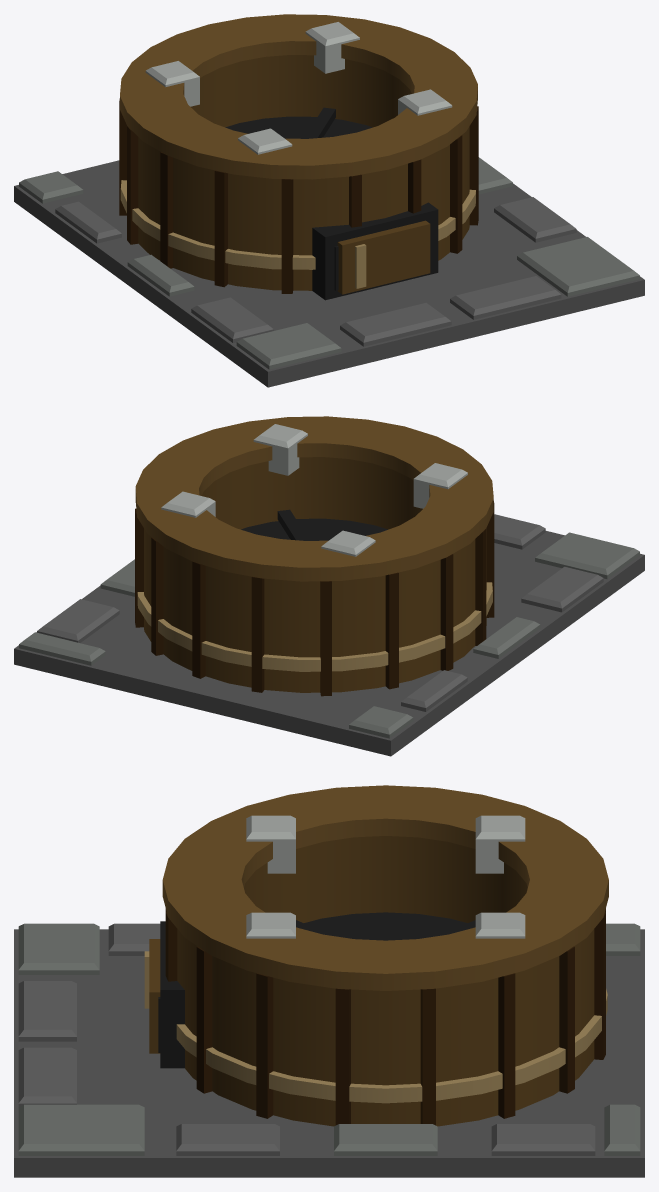
File: newshd-169-f5.glb
The picture shows the model from 3 angles, top to bottom: view 1: azimuth 30°, elevation 25°; view 2: azimuth 150°, elevation 25°; view 3: azimuth 270°, elevation 25°; orthographic projection. The views are drawn at different scales.
Parts seen in each view (by area): view 1: newshd-169-f5; view 2: newshd-169-f5; view 3: newshd-169-f5.
Boxes of the visible parts, x1=… form: newshd-169-f5: x1=14, y1=14, x2=644, y2=387; newshd-169-f5: x1=14, y1=416, x2=644, y2=756; newshd-169-f5: x1=14, y1=785, x2=644, y2=1177.
Bounding box in the file's own units: 2 × 0.76 × 2.33.
